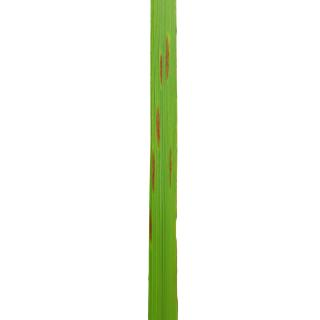Bercak-Cokelat-Sempit: (158, 33, 174, 88), (148, 153, 160, 192), (151, 106, 162, 148), (149, 207, 158, 244), (166, 147, 173, 188)
